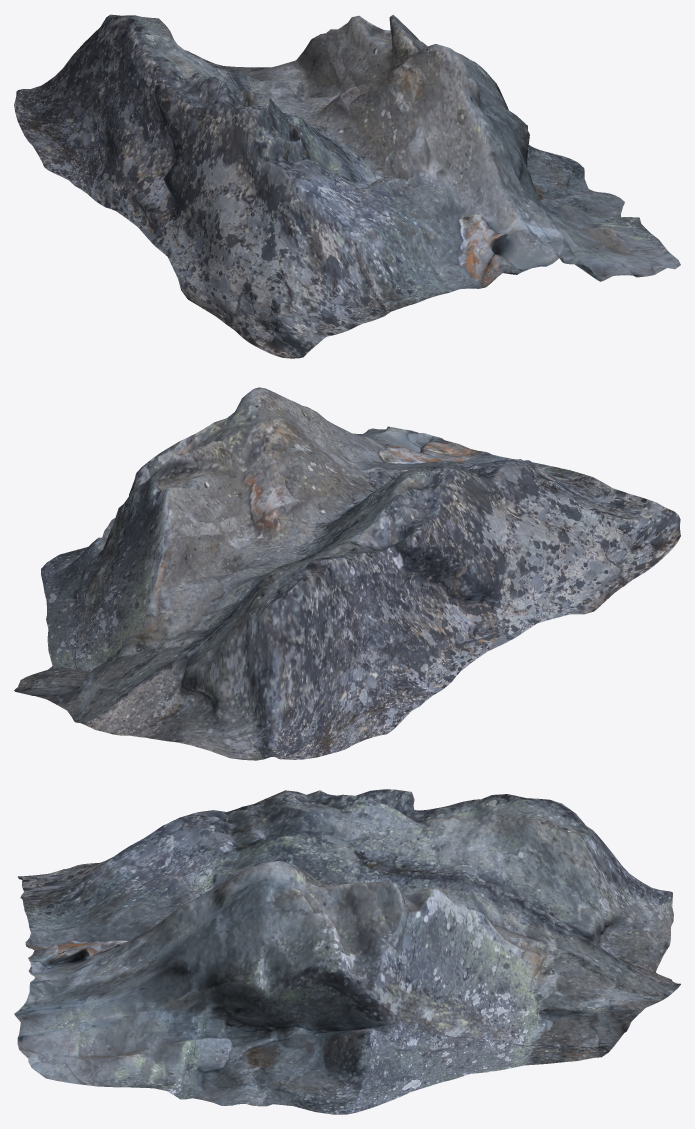
File: rock-cliff.glb
3 views of the same model, one above another, from view 1: azimuth 30°, elevation 25°; view 2: azimuth 150°, elevation 25°; view 3: azimuth 270°, elevation 25° (orthographic). The views are drawn at different scales.
Visible parts, largest first — view 1: Low Poly Cliff Rock Photoscan.002; view 2: Low Poly Cliff Rock Photoscan.002; view 3: Low Poly Cliff Rock Photoscan.002.
Boxes of the visible parts, left/top/right/bottom form: Low Poly Cliff Rock Photoscan.002: left=14, top=14, right=680, bottom=358; Low Poly Cliff Rock Photoscan.002: left=14, top=387, right=680, bottom=760; Low Poly Cliff Rock Photoscan.002: left=14, top=789, right=680, bottom=1114.
Bounding box in the file's own units: 4.35 × 1.65 × 5.69.
1 material, 1 textured.
